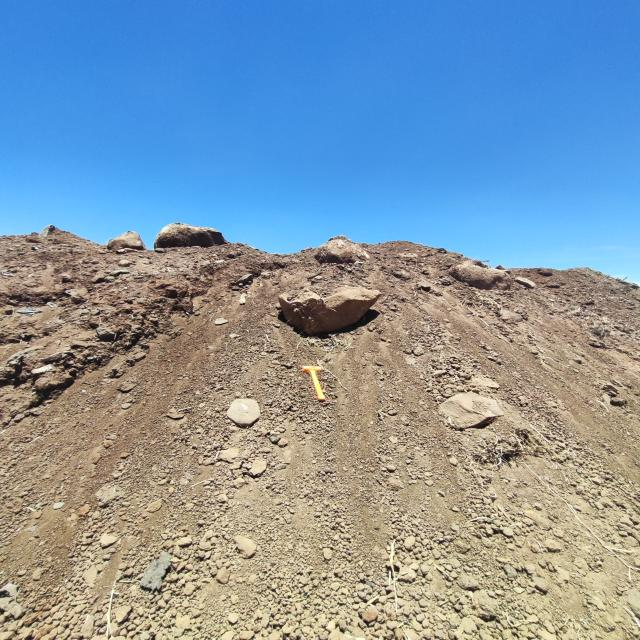Orange_hammer: (301, 364, 326, 402)
